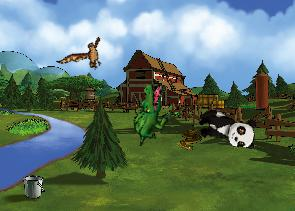crocodile: (127, 81, 172, 146)
eagle: (56, 26, 114, 85)
panda: (194, 107, 259, 151)
